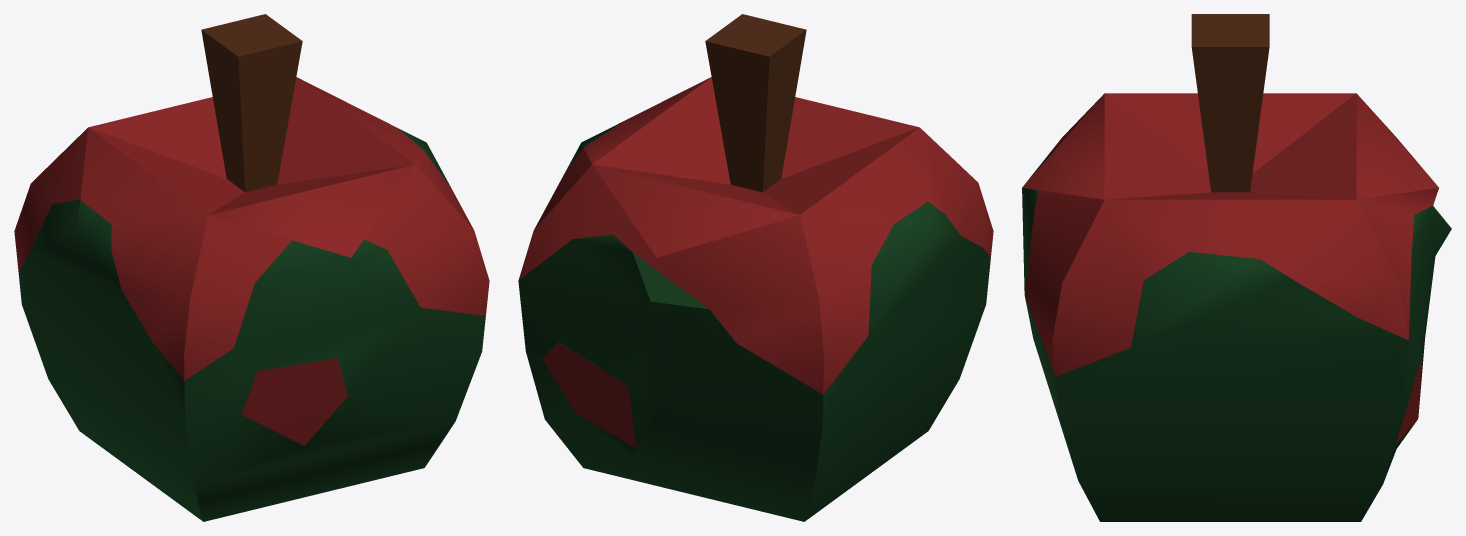
File: poison_apple_bullet.fbx
The picture shows the model from 3 angles, left to right: view 1: azimuth 30°, elevation 25°; view 2: azimuth 150°, elevation 25°; view 3: azimuth 270°, elevation 25°; orthographic projection. The views are drawn at different scales.
Parts seen in each view (by area): view 1: poison_apple_bullet; view 2: poison_apple_bullet; view 3: poison_apple_bullet.
Part boxes in pixels (bbox=[...]): poison_apple_bullet: bbox=[14, 14, 489, 521]; poison_apple_bullet: bbox=[518, 14, 993, 521]; poison_apple_bullet: bbox=[1022, 14, 1451, 521].
Size of the model in its own units: 0.1654 by 0.1873 by 0.1678.
